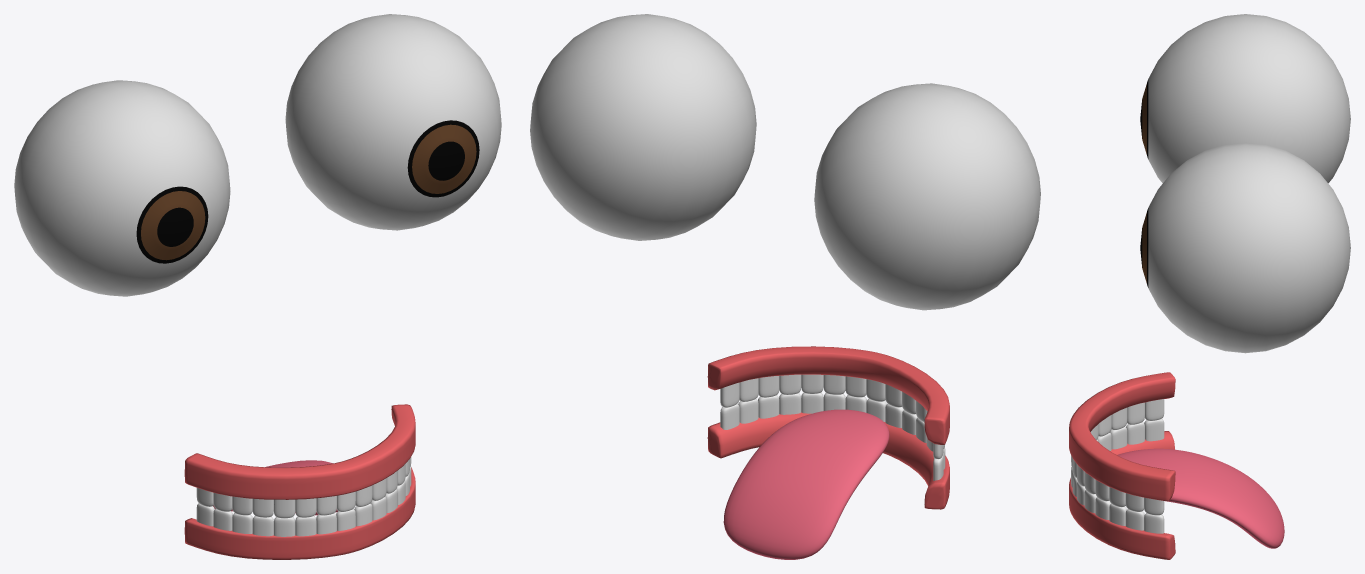
File: Mouth.fbx
The picture shows the model from 3 angles, left to right: view 1: azimuth 30°, elevation 25°; view 2: azimuth 150°, elevation 25°; view 3: azimuth 270°, elevation 25°; orthographic projection. The views are drawn at different scales.
Visible parts, largest first — view 1: Eye R, Eye L, Up Gums, Down Gums; view 2: Eye R, Eye L, Toung, Up Gums, Down Gums; view 3: Eye L, Eye R, Toung, Up Gums, Down Gums, BL3Molar, TR3Molar, BR3Molar, BL2Molar, BR2Molar.
Boxes of the visible parts, x1,y1,x2,y2 form: Eye R: (14,80,230,296); Eye L: (285,14,501,230); Up Gums: (184,404,415,499); Down Gums: (184,467,415,559); Eye R: (814,83,1040,310); Eye L: (530,14,756,240); Toung: (723,409,889,559); Up Gums: (707,346,949,444); Down Gums: (707,412,949,509); Eye L: (1140,142,1350,353); Eye R: (1140,14,1350,183); Toung: (1117,448,1284,548); Up Gums: (1069,372,1175,501); Down Gums: (1069,431,1175,559); BL3Molar: (1144,418,1164,441); TR3Molar: (1145,399,1164,420); BR3Molar: (1144,513,1164,533); BL2Molar: (1126,422,1144,444); BR2Molar: (1125,509,1144,530).
Bounding box in the file's own units: 26.05 × 25.08 × 14.25.
